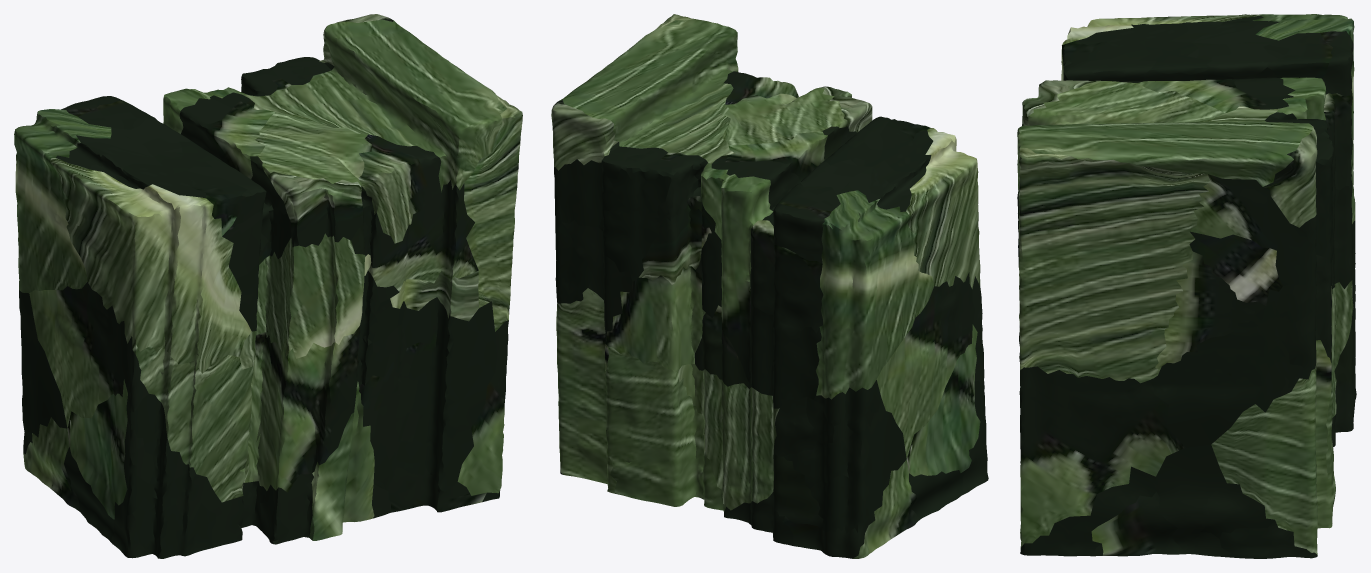
3 views of the same model, side by side, from view 1: azimuth 30°, elevation 25°; view 2: azimuth 150°, elevation 25°; view 3: azimuth 270°, elevation 25° (orthographic). The views are drawn at different scales.
Visible parts, largest first — view 1: Books_Self books_00; view 2: Books_Self books_00; view 3: Books_Self books_00.
Boxes of the visible parts, x1,y1,x2,y2 form: Books_Self books_00: (14, 14, 522, 558); Books_Self books_00: (551, 14, 988, 558); Books_Self books_00: (1017, 14, 1356, 558).
Size of the model in its own units: 0.1511 by 0.1515 by 0.1133.
Materials: 1 (1 with a texture image).
